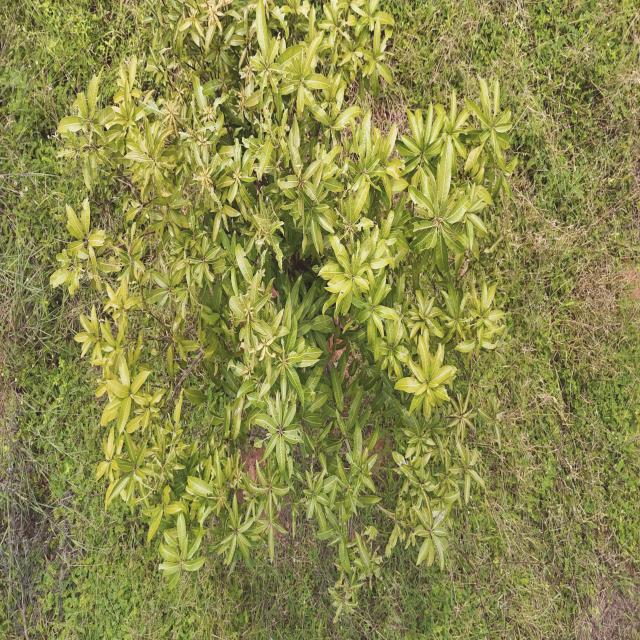mangoTree: (48, 0, 520, 626)
